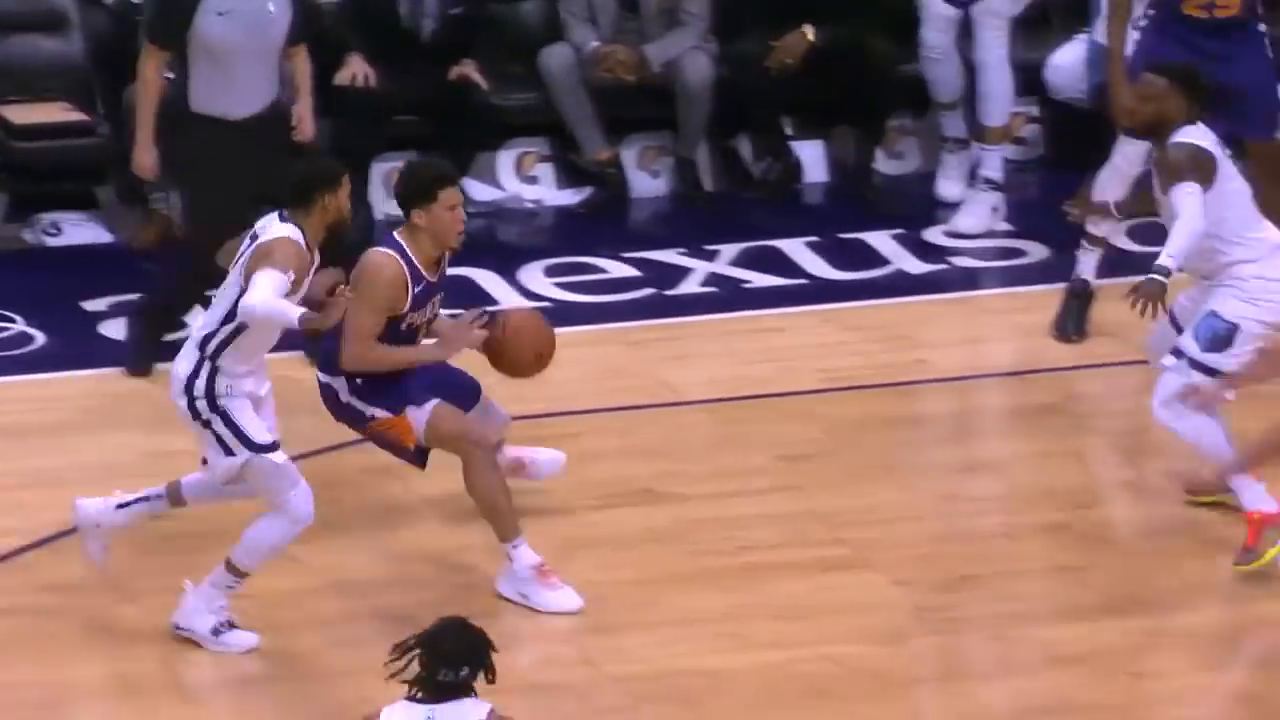ball: (489, 307, 560, 377)
